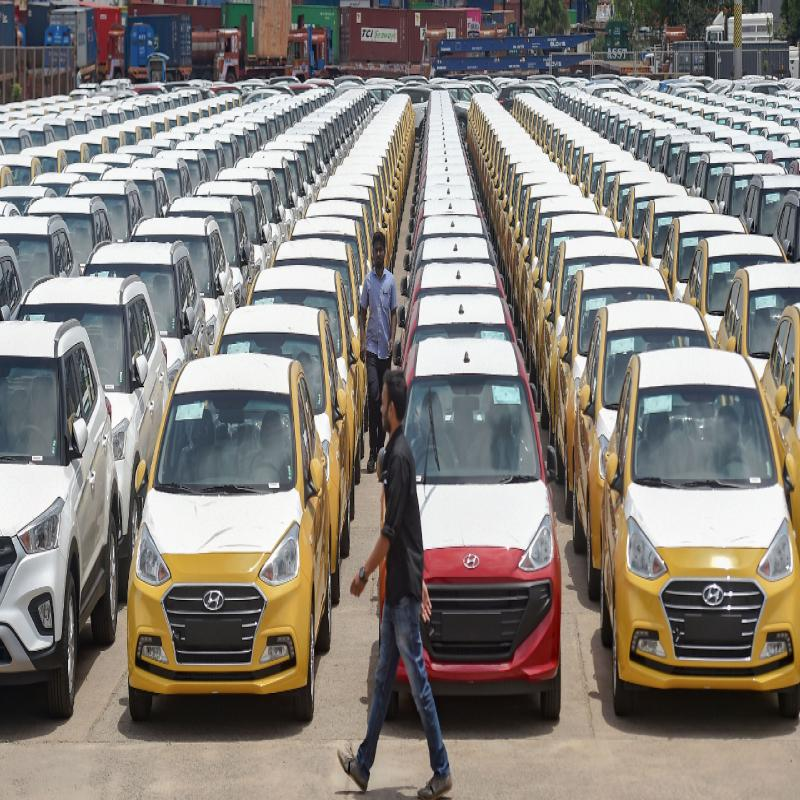car: (618, 336, 800, 718), (138, 347, 303, 752), (392, 332, 557, 714), (0, 312, 112, 698), (587, 285, 722, 397)
